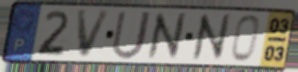0: (229, 13, 264, 64)
2: (35, 9, 70, 58)
N: (145, 11, 187, 62), (190, 12, 232, 63)
U: (109, 10, 154, 62)
V: (75, 9, 113, 61)
